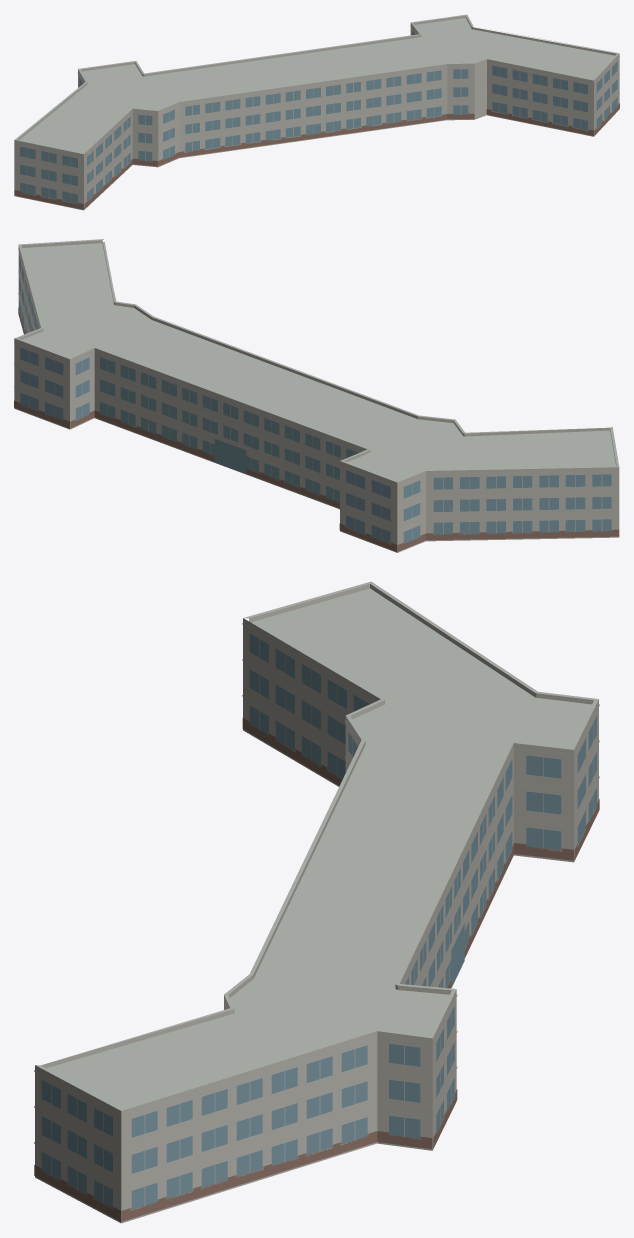
Rendered from public-342982b0-eddc-40d9-b8e0-a08464096839.glb.
The picture shows the model from 3 angles, top to bottom: view 1: azimuth 30°, elevation 25°; view 2: azimuth 150°, elevation 25°; view 3: azimuth 270°, elevation 25°; orthographic projection. The views are drawn at different scales.
Parts seen in each view (by area): view 1: public-342982b0-eddc-40d9-b8e0-a08464096839; view 2: public-342982b0-eddc-40d9-b8e0-a08464096839; view 3: public-342982b0-eddc-40d9-b8e0-a08464096839.
Part boxes in pixels (left/top/right/bottom): public-342982b0-eddc-40d9-b8e0-a08464096839: left=14, top=14, right=619, bottom=210; public-342982b0-eddc-40d9-b8e0-a08464096839: left=14, top=239, right=619, bottom=552; public-342982b0-eddc-40d9-b8e0-a08464096839: left=34, top=581, right=599, bottom=1223.
Size of the model in its own units: 92.52 by 9.15 by 41.72.
